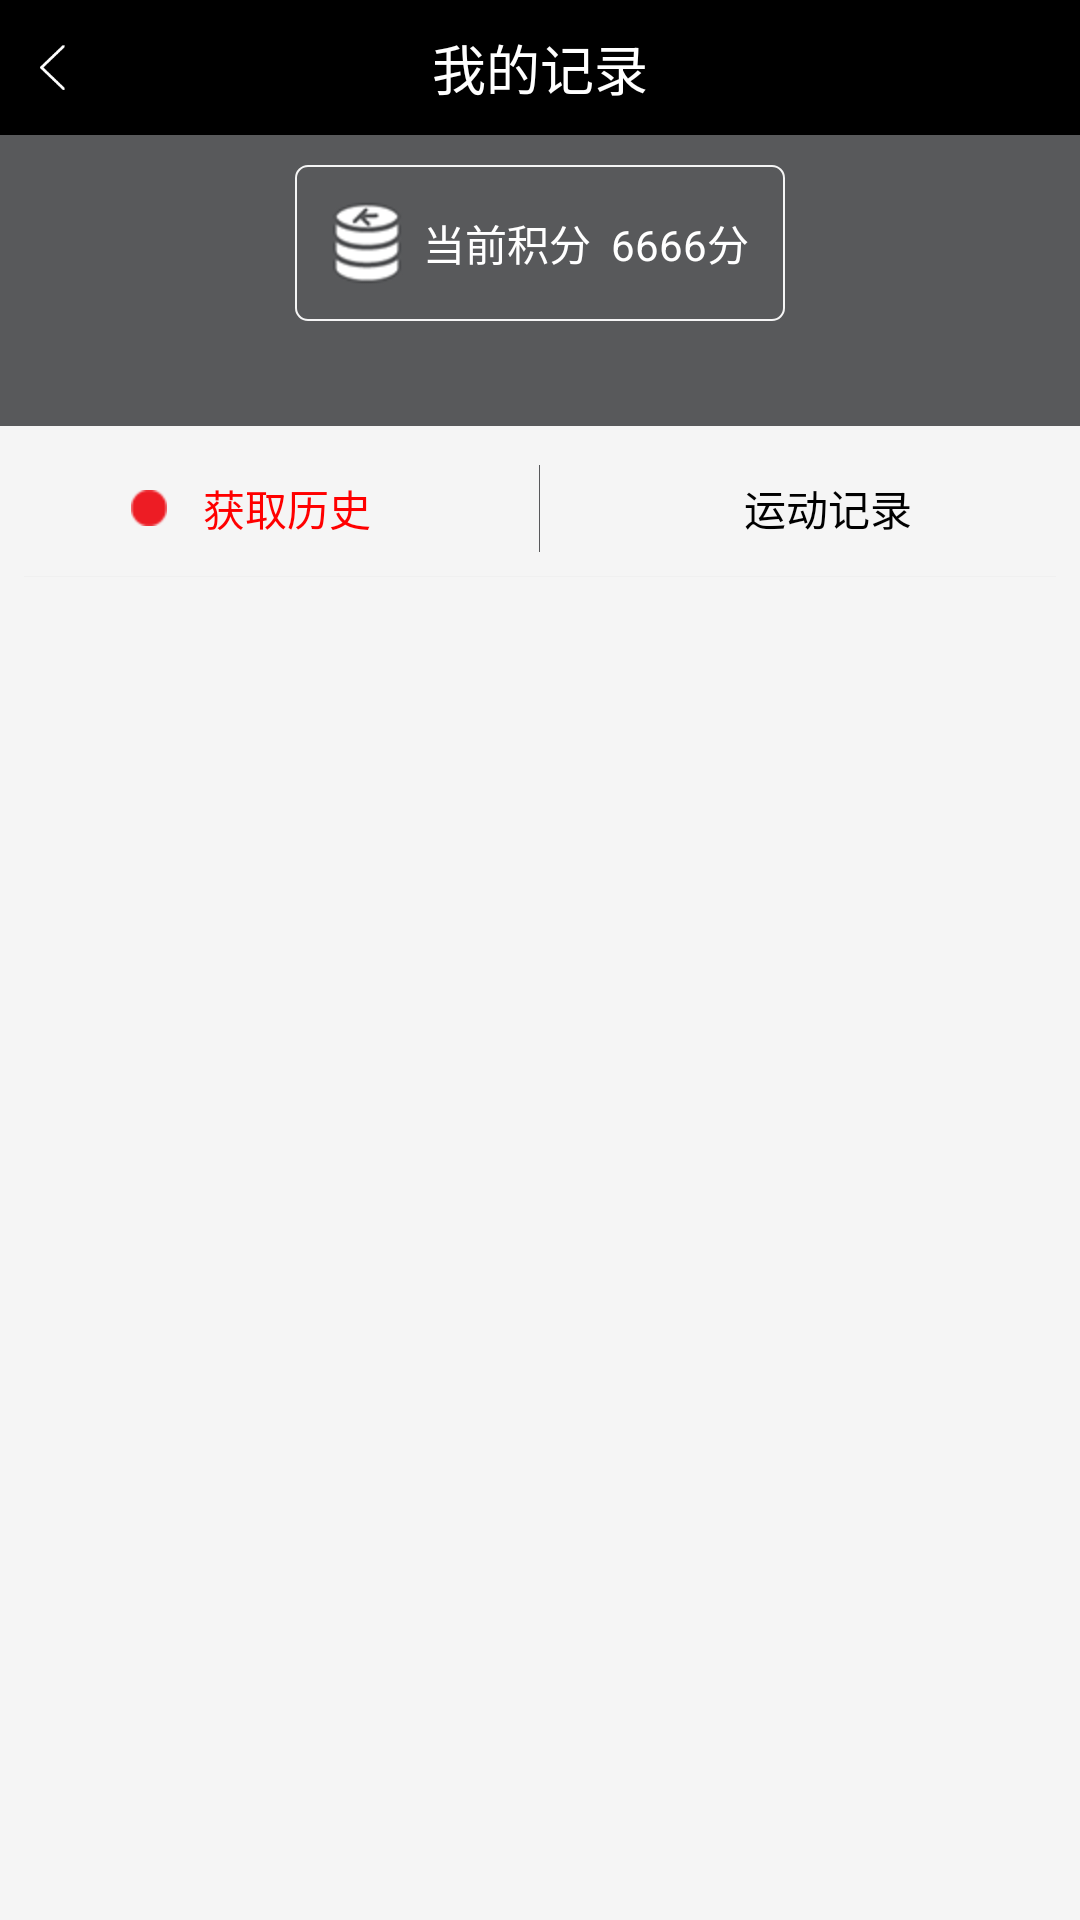

Where icons sit on this 1080*1920 app screen, as bbox=[x1, y1, x2, y2]:
previous item: bbox=[40, 45, 65, 90]
